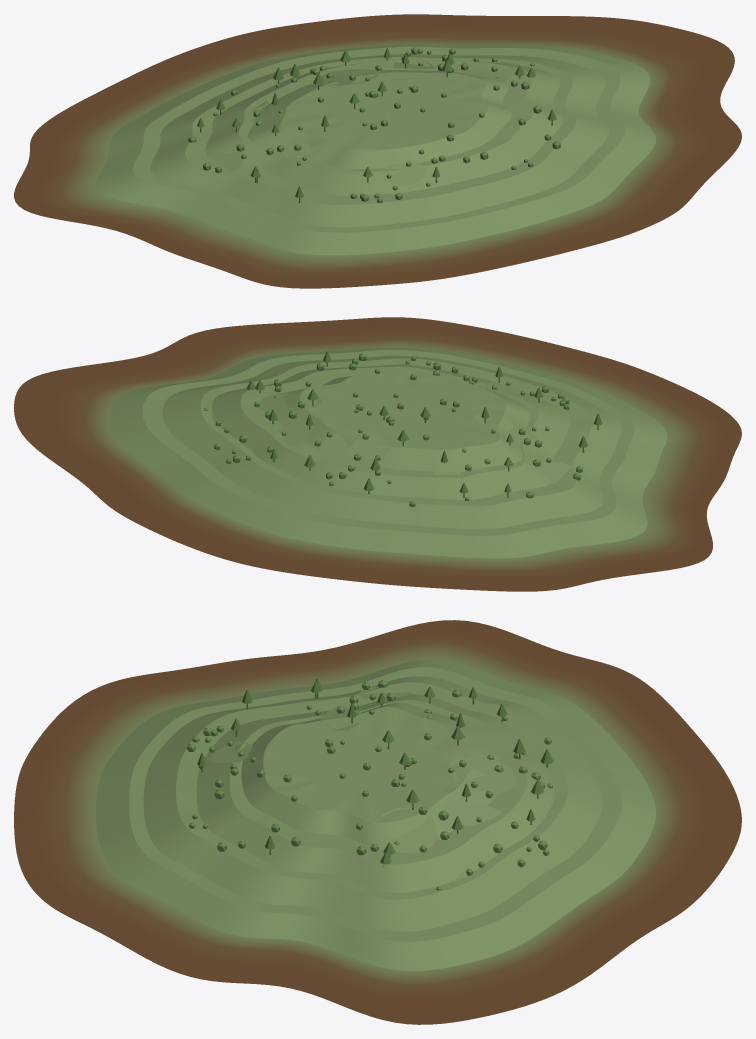
Rendered from restoration.glb.
3 views of the same model, one above another, from view 1: azimuth 30°, elevation 25°; view 2: azimuth 150°, elevation 25°; view 3: azimuth 270°, elevation 25° (orthographic). The views are drawn at different scales.
Visible parts, largest first — view 1: RestorationToeTransition, RestorationSlope01, RestorationSlope02, RestorationSlope03, RestorationBench01, VegetationPatches, RestorationSlope04, RestorationBench02, RestorationBench03, RestorationBench04, RestorationTop, Shrubs (+1 smaller); view 2: RestorationToeTransition, RestorationSlope01, RestorationSlope02, RestorationSlope03, VegetationPatches, RestorationBench01, RestorationBench02, RestorationSlope04, RestorationBench03, RestorationBench04, Shrubs, RestorationTop (+1 smaller); view 3: RestorationToeTransition, RestorationSlope01, RestorationSlope02, RestorationSlope03, RestorationBench01, VegetationPatches, RestorationBench02, RestorationSlope04, RestorationBench03, RestorationBench04, RestorationTop, Shrubs (+1 smaller).
Part boxes in pixels (<box>): RestorationToeTransition: <box>14,14,741,288</box>; RestorationSlope01: <box>95,44,656,255</box>; RestorationSlope02: <box>150,54,609,227</box>; RestorationSlope03: <box>205,61,563,195</box>; RestorationBench01: <box>132,46,625,232</box>; VegetationPatches: <box>203,61,520,185</box>; RestorationSlope04: <box>247,70,511,168</box>; RestorationBench02: <box>185,57,576,204</box>; RestorationBench03: <box>238,60,533,172</box>; RestorationBench04: <box>280,72,488,150</box>; RestorationTop: <box>307,76,480,141</box>; Shrubs: <box>188,47,560,203</box>; RestorationToeTransition: <box>14,317,741,591</box>; RestorationSlope01: <box>108,347,667,558</box>; RestorationSlope02: <box>162,355,622,528</box>; RestorationSlope03: <box>212,364,570,499</box>; VegetationPatches: <box>211,382,582,496</box>; RestorationBench01: <box>142,350,635,535</box>; RestorationBench02: <box>200,358,593,506</box>; RestorationSlope04: <box>276,375,530,472</box>; RestorationBench03: <box>241,366,538,478</box>; RestorationBench04: <box>300,371,506,449</box>; Shrubs: <box>204,353,582,507</box>; RestorationTop: <box>308,376,481,441</box>; RestorationToeTransition: <box>14,620,741,1024</box>; RestorationSlope01: <box>96,659,655,971</box>; RestorationSlope02: <box>143,676,602,931</box>; RestorationSlope03: <box>196,694,554,892</box>; RestorationBench01: <box>129,667,621,941</box>; VegetationPatches: <box>209,687,517,883</box>; RestorationBench02: <box>176,682,567,899</box>; RestorationSlope04: <box>241,703,500,849</box>; RestorationBench03: <box>230,700,526,864</box>; RestorationBench04: <box>263,707,470,822</box>; RestorationTop: <box>282,722,455,818</box>; Shrubs: <box>187,680,552,890</box>.
Bounding box in the file's own units: 151 × 12.19 × 114.
